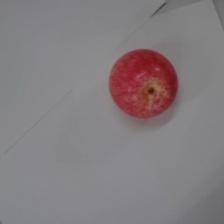red: (108, 49, 178, 119)
